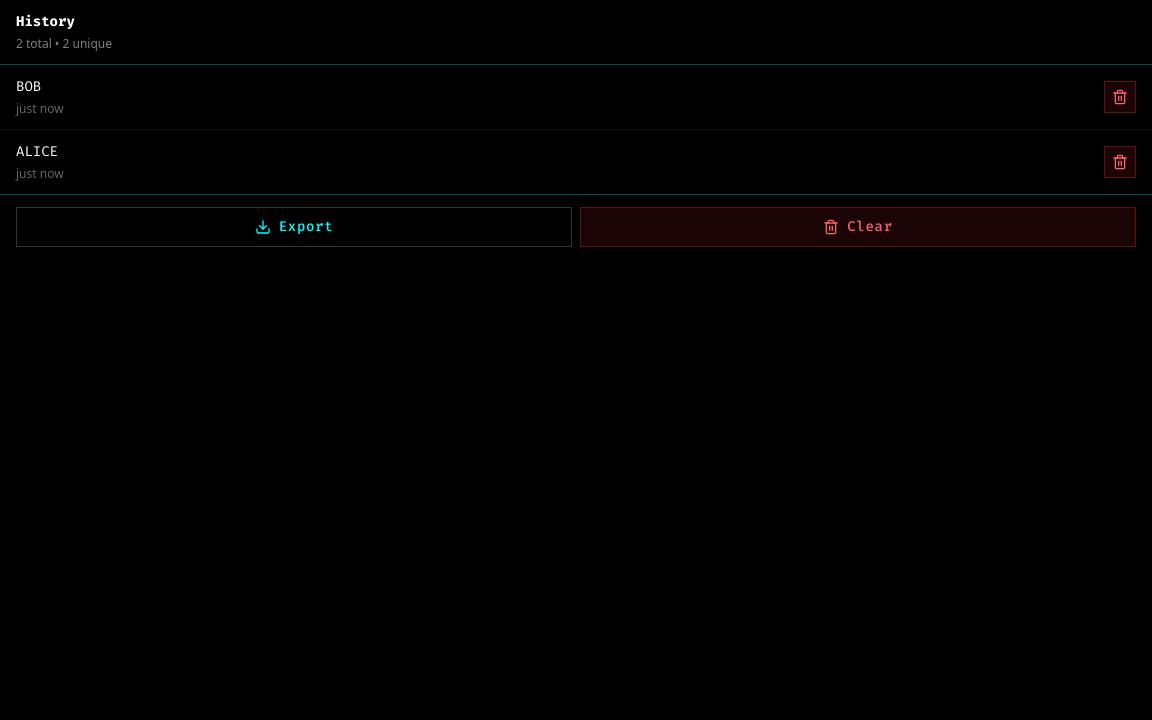
Test case: HistoryPanel › should show confirmation dialog when clear button clicked
The width and height of the screenshot is (1152, 720).
Click the button with aria-label "clear all history" at (858, 227), box [580,207,1136,247]
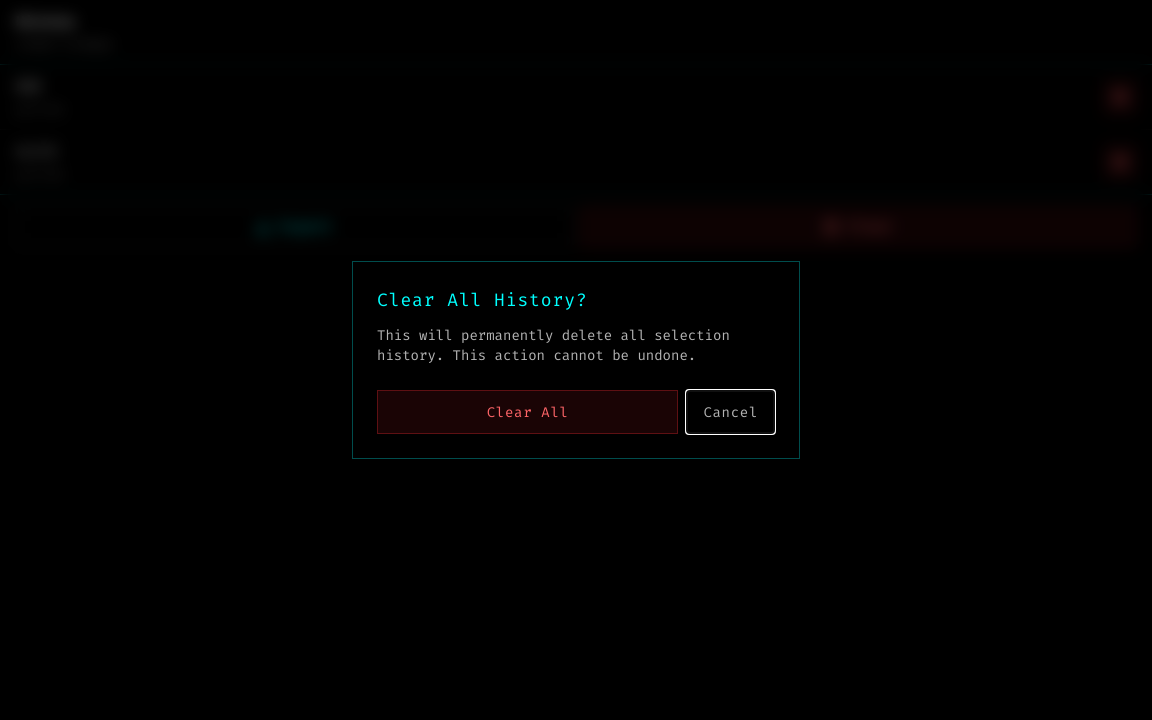
Now the heading "Clear All History?" is shown, box [377,288,588,312]
Now the text "This will permanently delete all selection history" is shown, box [377,326,730,365]
